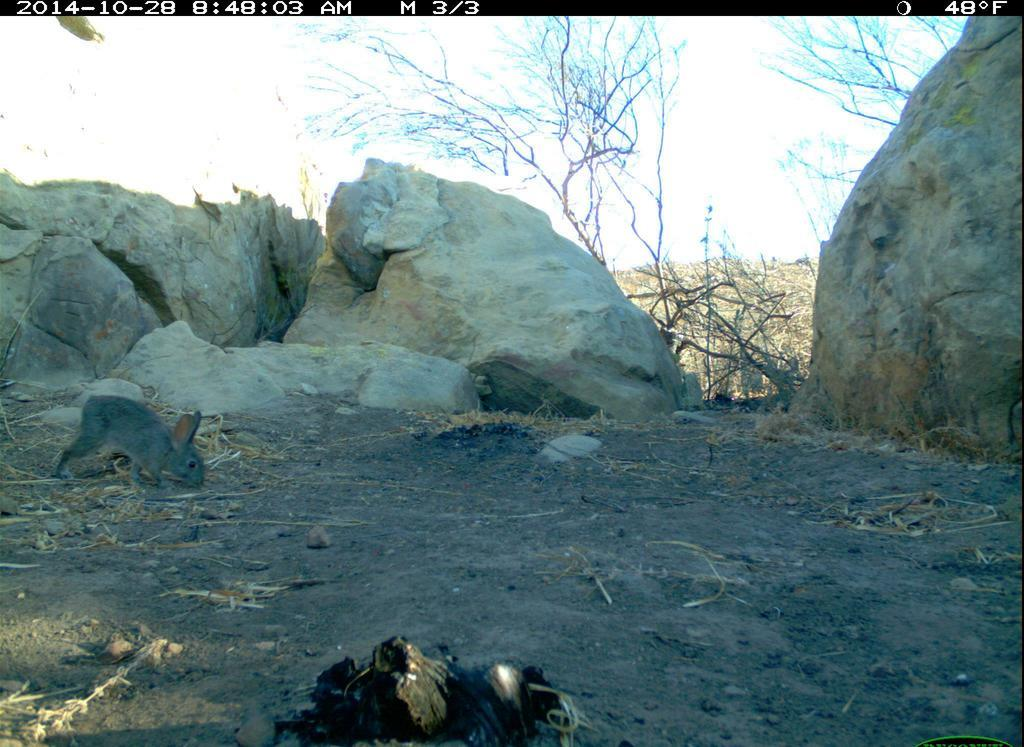rabbit: (50, 391, 212, 500)
